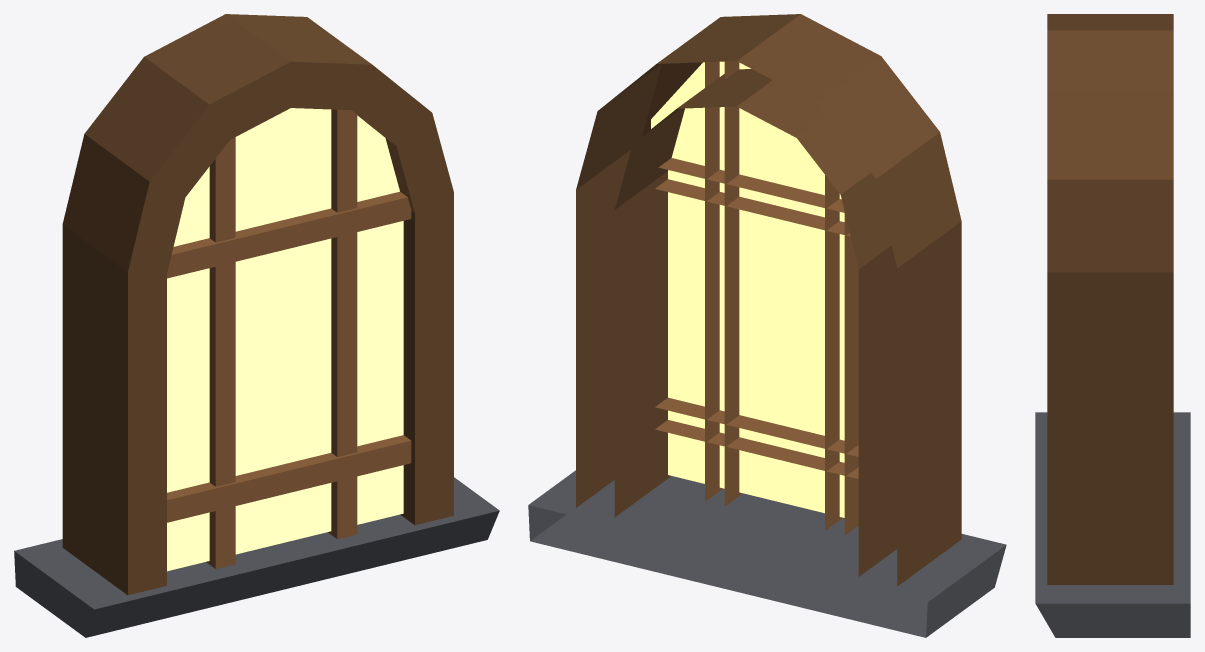
The model's file is Window_4.glb.
3 views of the same model, side by side, from view 1: azimuth 30°, elevation 25°; view 2: azimuth 150°, elevation 25°; view 3: azimuth 270°, elevation 25° (orthographic). The views are drawn at different scales.
Parts seen in each view (by area): view 1: Window_4; view 2: Window_4; view 3: Window_4.
Part boxes in pixels (left/top/right/bottom): Window_4: left=14, top=14, right=499, bottom=637; Window_4: left=528, top=14, right=1006, bottom=637; Window_4: left=1035, top=14, right=1190, bottom=637.
Size of the model in its own units: 0.447 by 0.5585 by 0.1532.
